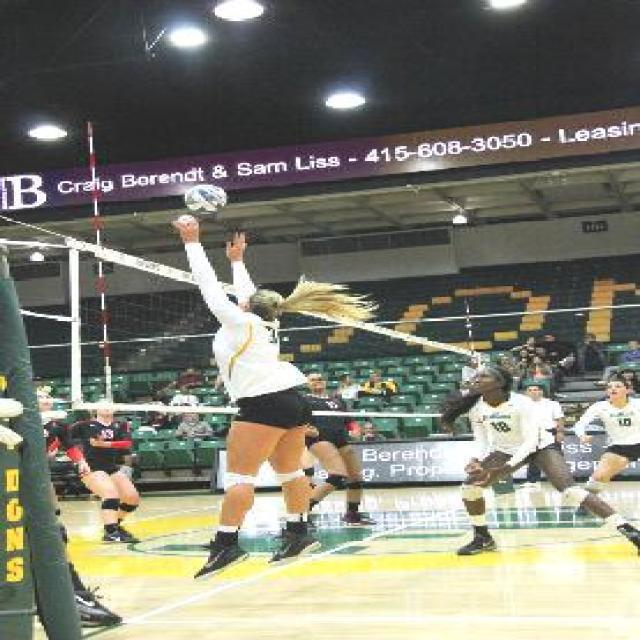volleyball: (185, 183, 229, 216)
